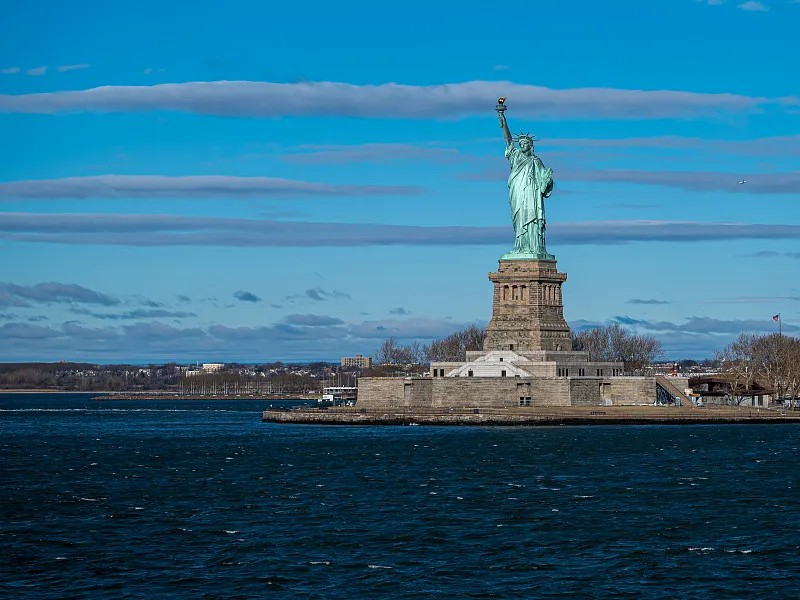SL: (483, 96, 572, 352)
